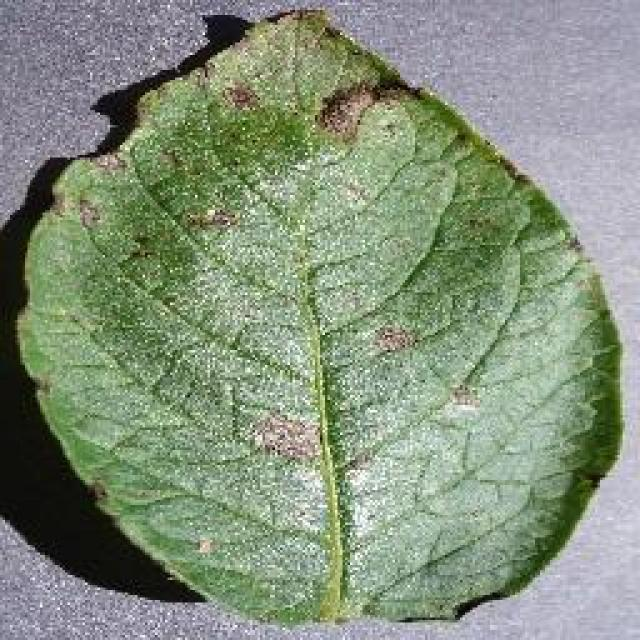early_blight: (10, 5, 628, 630)
